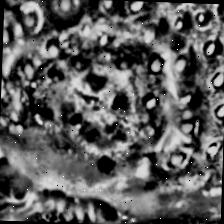Anthracnose Fruit Rot: (19, 30, 188, 176)
